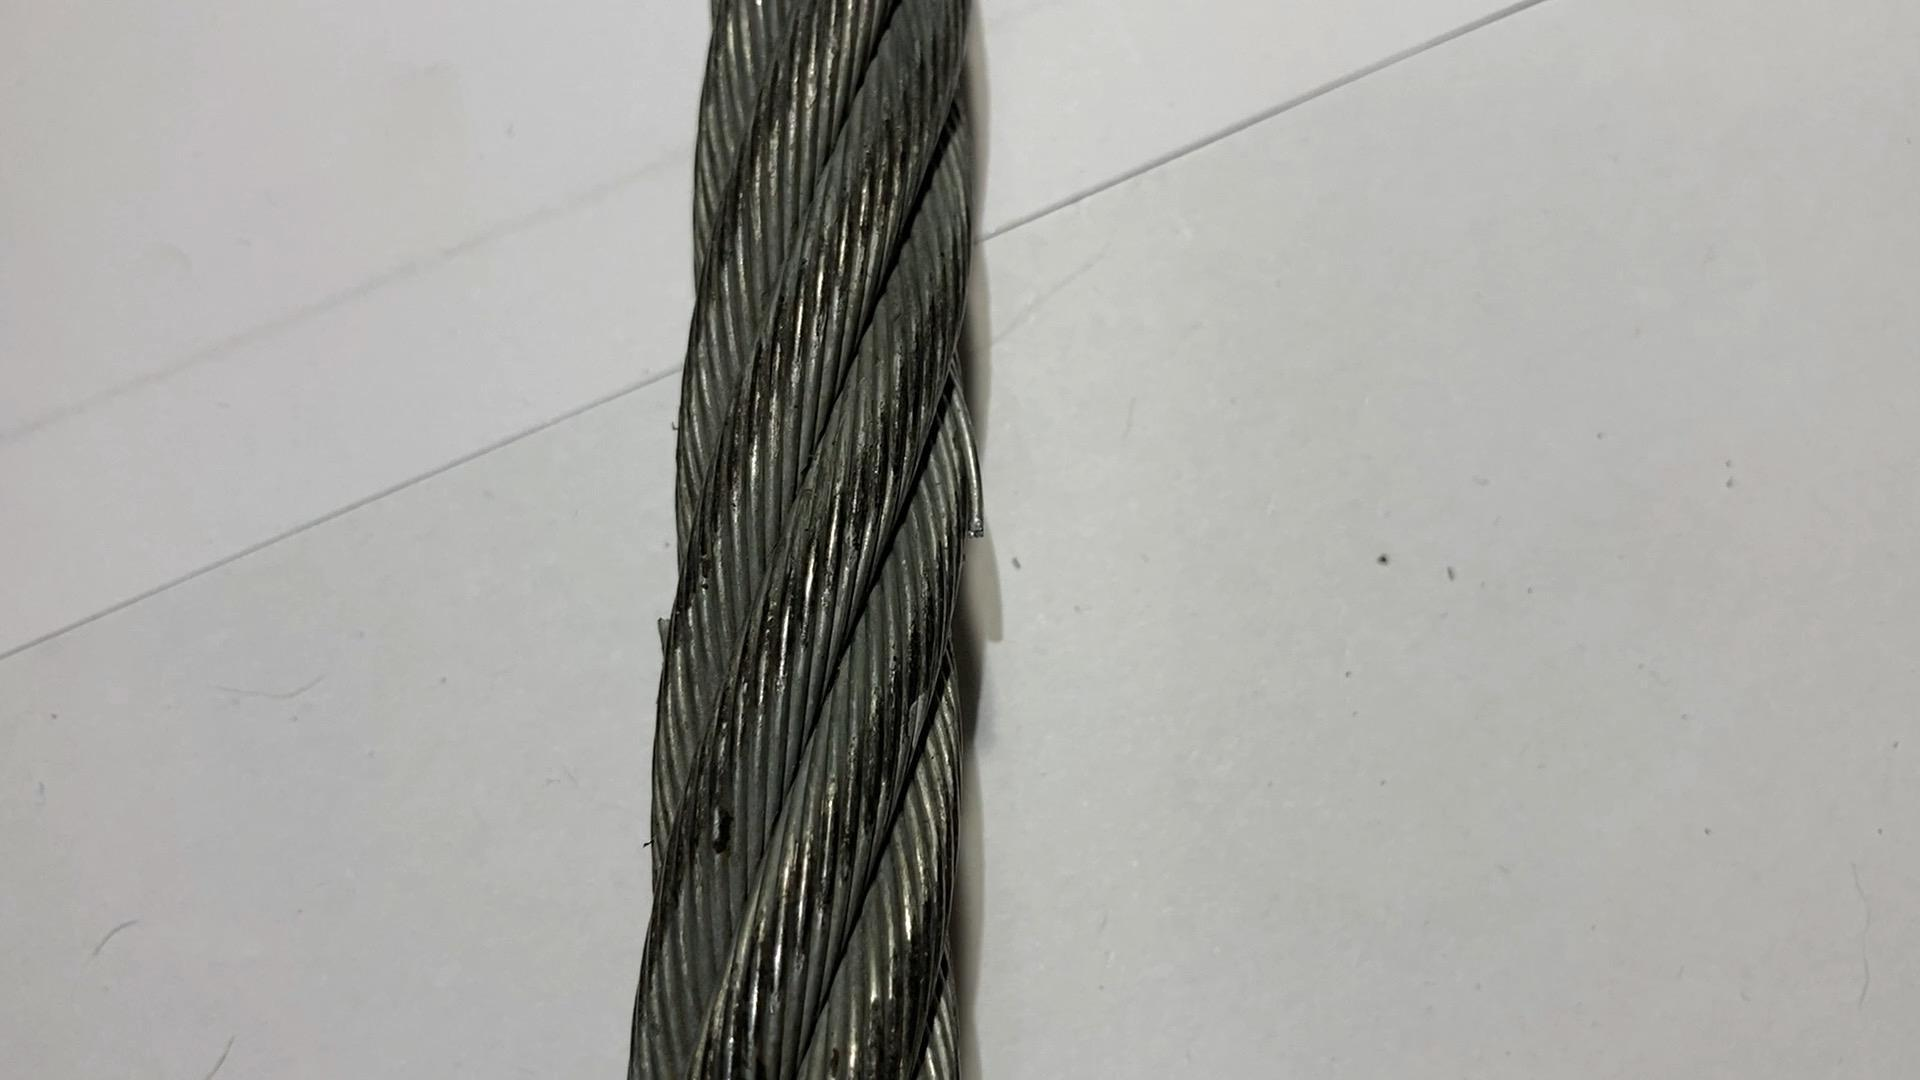break: (945, 382, 1001, 550)
